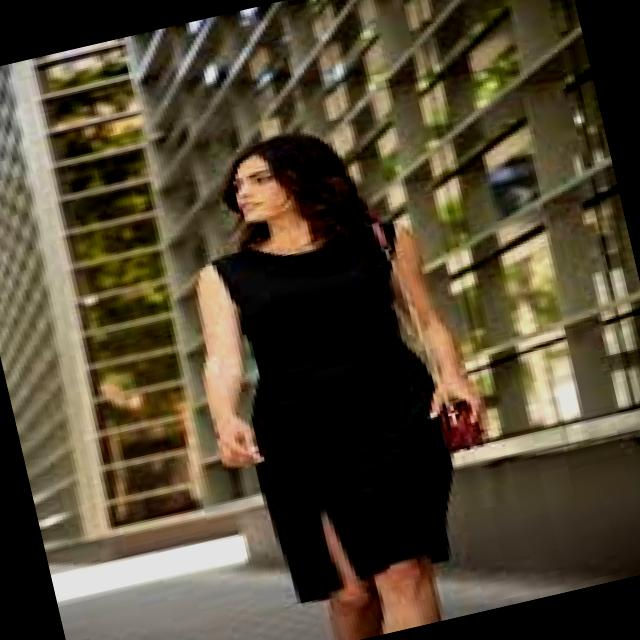dress: (212, 232, 452, 603)
